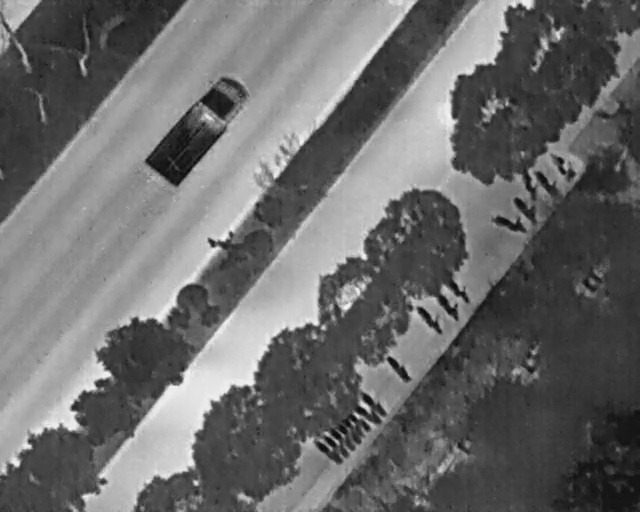Bicycle: (485, 204, 532, 238), (437, 269, 477, 308), (411, 299, 450, 339), (509, 189, 547, 230), (545, 143, 582, 185), (380, 348, 418, 387), (531, 162, 566, 202), (430, 287, 466, 324), (353, 386, 392, 420), (311, 436, 346, 467), (343, 407, 376, 435), (342, 414, 369, 448), (335, 422, 362, 456), (327, 425, 354, 459), (321, 428, 348, 462), (348, 401, 383, 427)
OtherVehicle: (136, 63, 260, 195)
